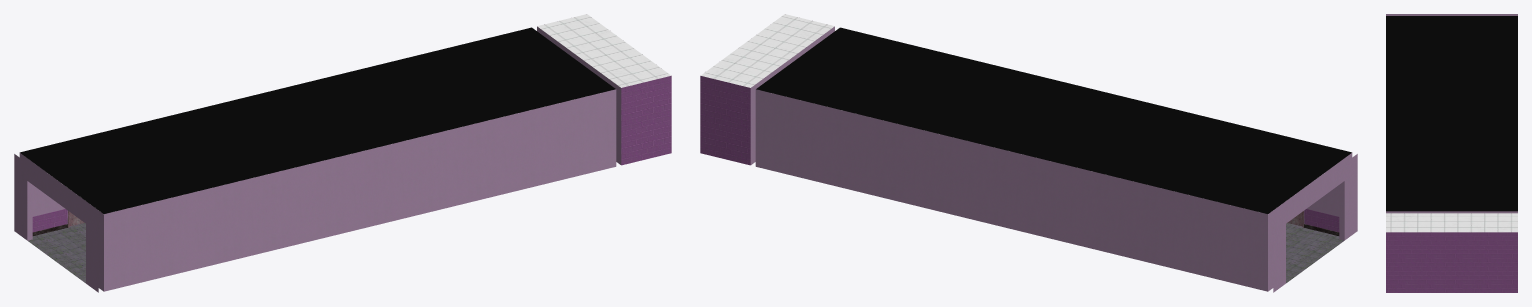
Rendered from env_hallway.glb.
The picture shows the model from 3 angles, left to right: view 1: azimuth 30°, elevation 25°; view 2: azimuth 150°, elevation 25°; view 3: azimuth 270°, elevation 25°; orthographic projection. The views are drawn at different scales.
Parts seen in each view (by area): view 1: Material2 (×4), Material3; view 2: Material2 (×4), Material3; view 3: Material3, Material2 (×3).
Part boxes in pixels (x1,y1,x2,y2): Material2 (×4): (14,14,671,292); Material3: (20,27,615,213); Material2 (×4): (700,14,1357,292); Material3: (756,27,1351,213); Material3: (1386,16,1517,211); Material2 (×3): (1386,14,1517,292).
Size of the model in its own units: 917 by 119 by 234.
11 materials, 7 textured.
